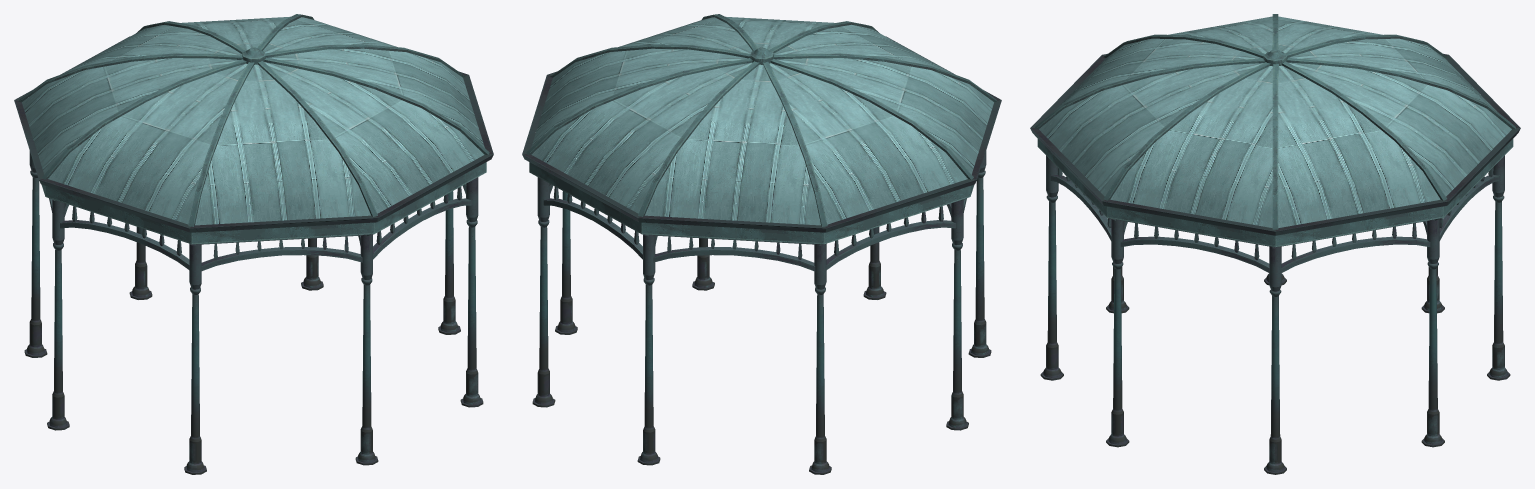
File: t1_b_pavilion.glb
3 views of the same model, side by side, from view 1: azimuth 30°, elevation 25°; view 2: azimuth 150°, elevation 25°; view 3: azimuth 270°, elevation 25° (orthographic).
Parts seen in each view (by area): view 1: um_t1_b_pavilion_model_t1_b_pavilion_modelShape; view 2: um_t1_b_pavilion_model_t1_b_pavilion_modelShape; view 3: um_t1_b_pavilion_model_t1_b_pavilion_modelShape.
Boxes of the visible parts, x1,y1,x2,y2 form: um_t1_b_pavilion_model_t1_b_pavilion_modelShape: (14, 14, 493, 474); um_t1_b_pavilion_model_t1_b_pavilion_modelShape: (522, 14, 1001, 474); um_t1_b_pavilion_model_t1_b_pavilion_modelShape: (1030, 14, 1520, 474).
Bounding box in the file's own units: 13.2 × 9.64 × 13.2.
1 material, 1 textured.
